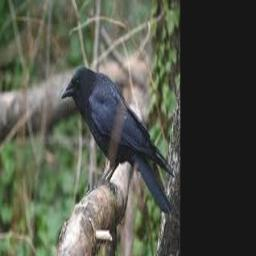Crow: (61, 66, 177, 218)
